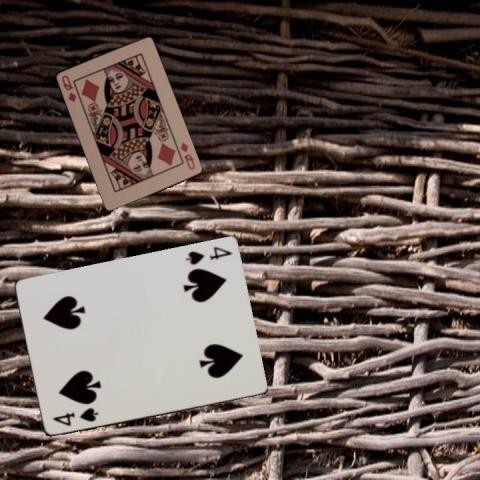4s: (49, 405, 100, 428), (182, 244, 233, 267)
Qd: (177, 138, 196, 170), (59, 72, 77, 103)
